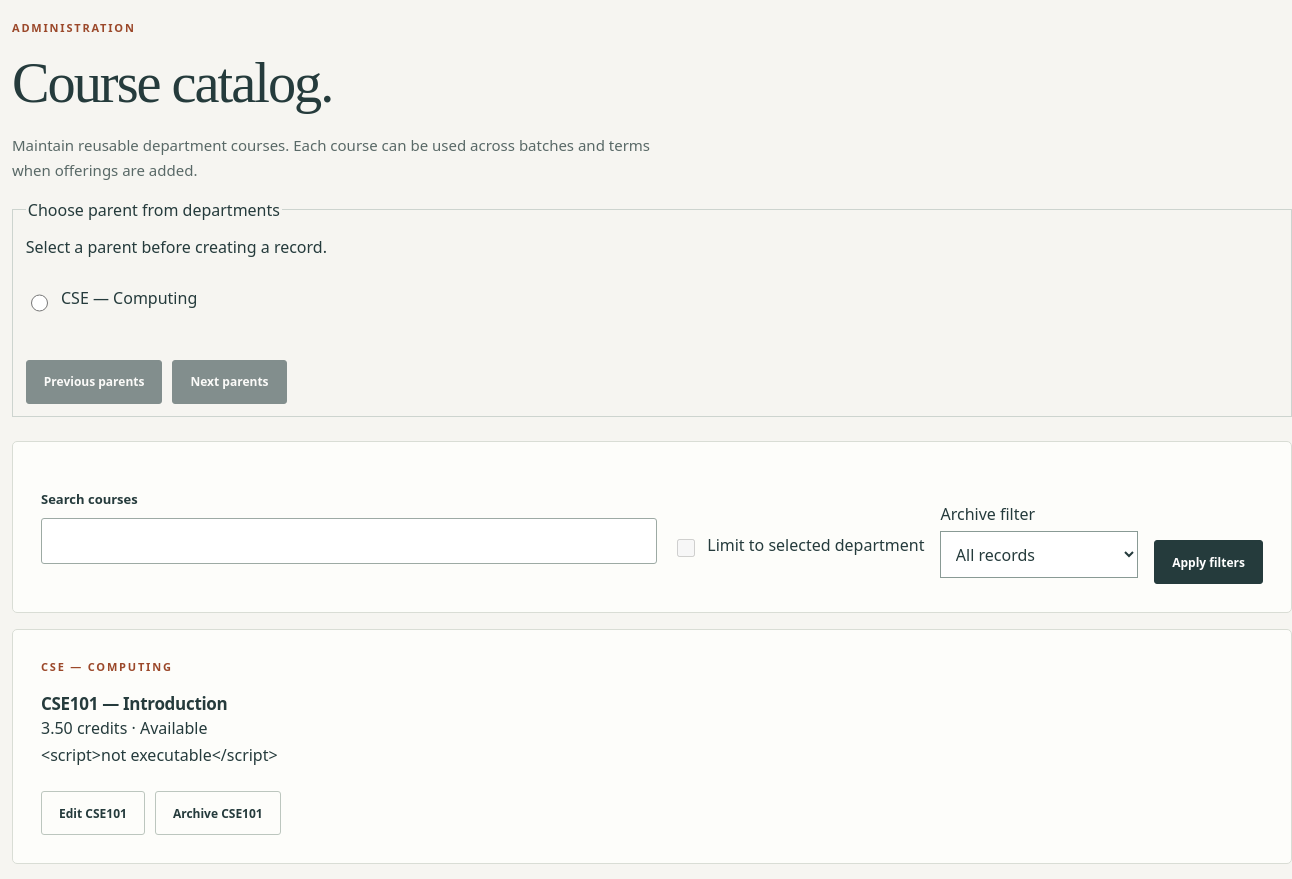
Test case: stale edits require reload and preserve fixed department in request allowlist
The image size is (1292, 879).
Click the button "Edit CSE101": point(93, 813) [41, 791, 145, 835]
(page scrolled)
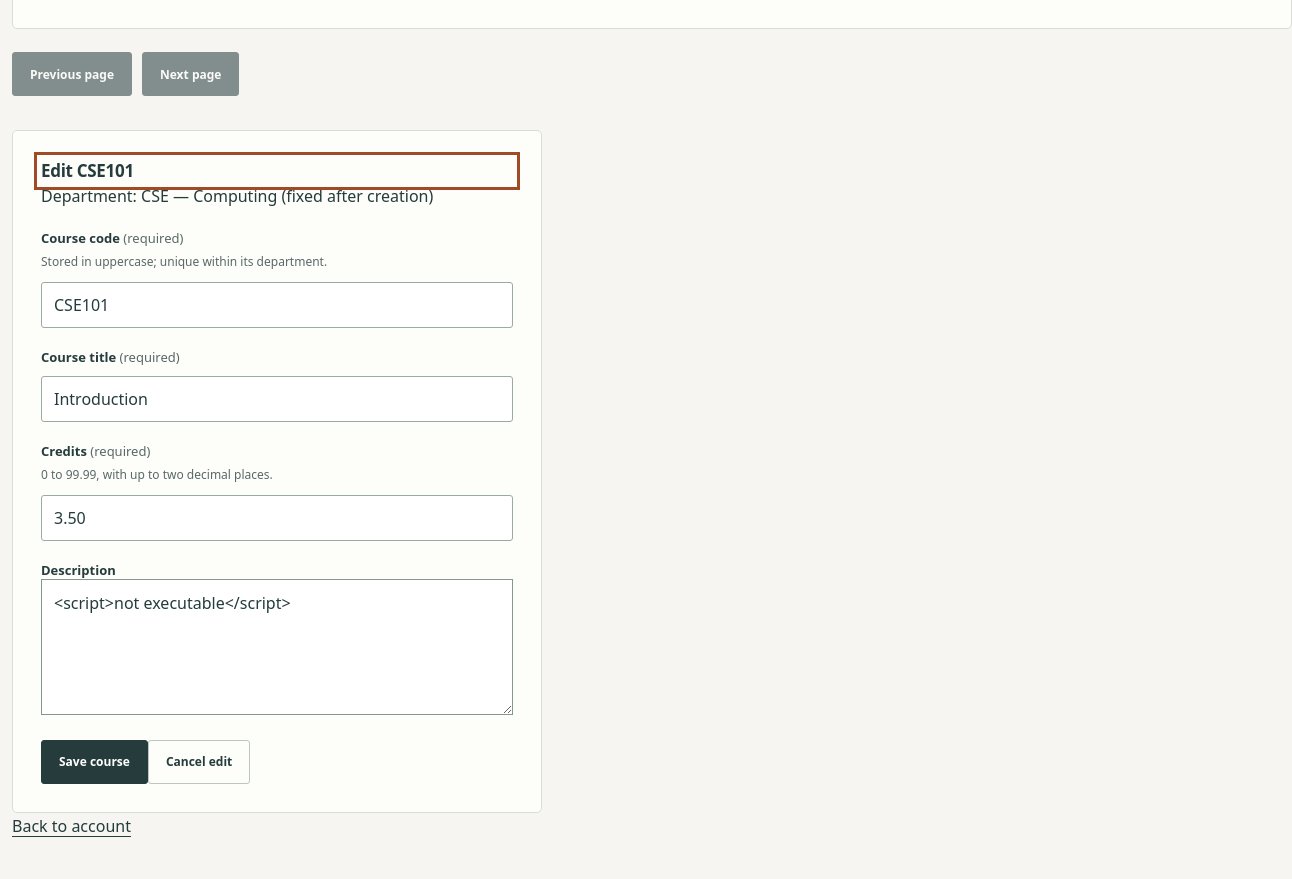
Check: the text "Department: CSE — Computing (fixed after creation)" is shown, box [41, 185, 433, 207]
Click the button "Save course": point(94, 762) [41, 740, 148, 784]
(page scrolled)
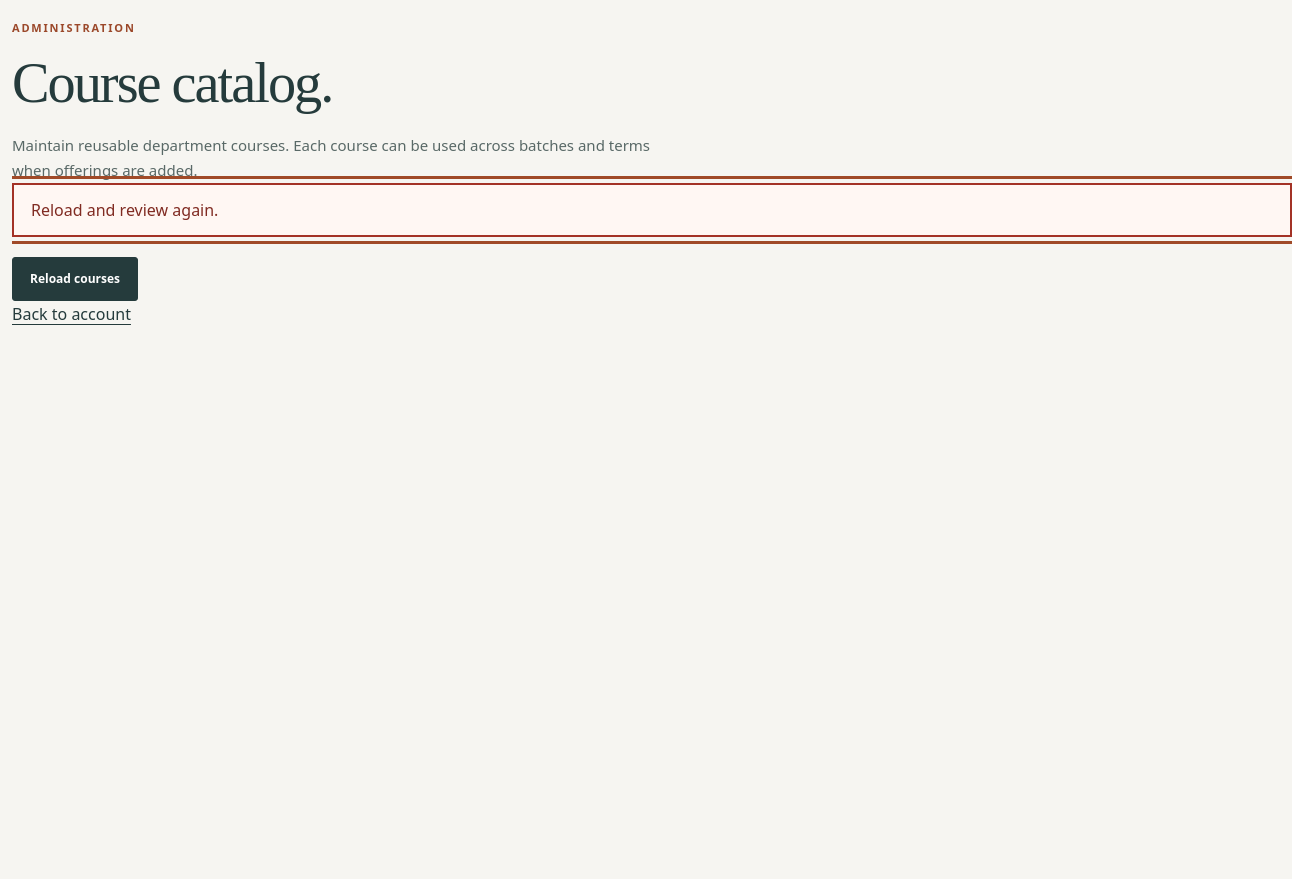
Check: the message shows "Reload", box [31, 199, 218, 221]
Check: the button "Reload courses" is shown, box [12, 257, 138, 301]
